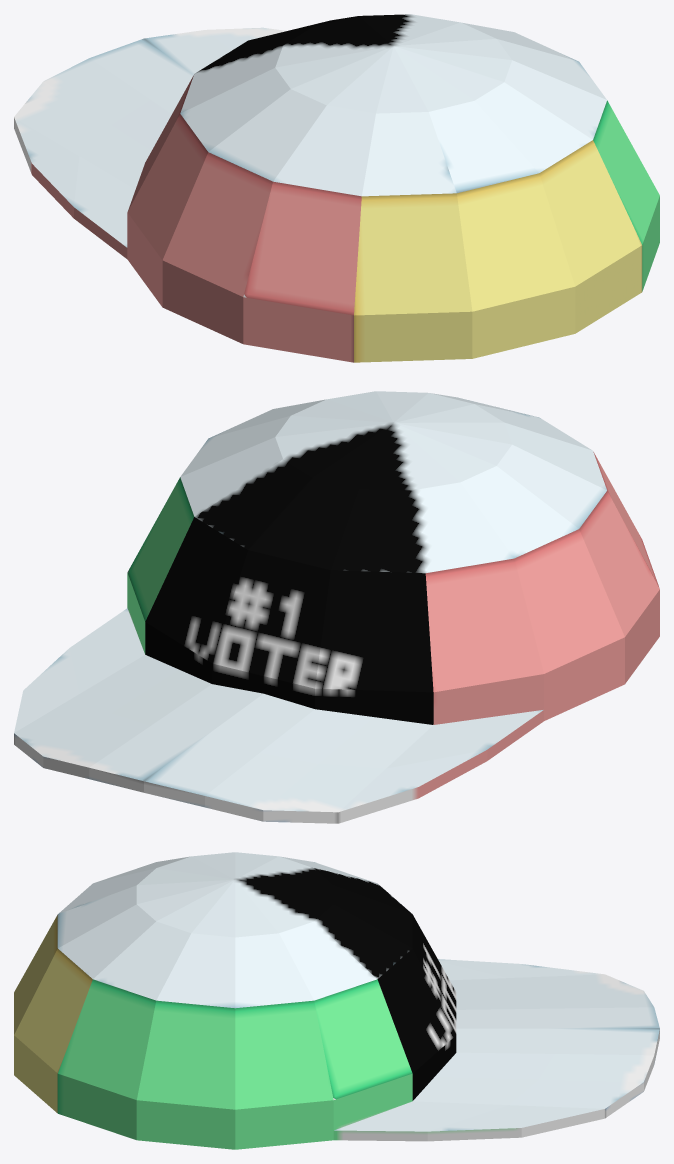
File: capFBX.fbx
The picture shows the model from 3 angles, top to bottom: view 1: azimuth 30°, elevation 25°; view 2: azimuth 150°, elevation 25°; view 3: azimuth 270°, elevation 25°; orthographic projection. The views are drawn at different scales.
Parts seen in each view (by area): view 1: sphere; view 2: sphere; view 3: sphere.
Boxes of the visible parts, x1=… form: sphere: x1=14, y1=14, x2=659, y2=362; sphere: x1=14, y1=391, x2=659, y2=823; sphere: x1=14, y1=852, x2=659, y2=1149.
Bounding box in the file's own units: 100 × 42.38 × 142.
Materials: 1 (1 with a texture image).
